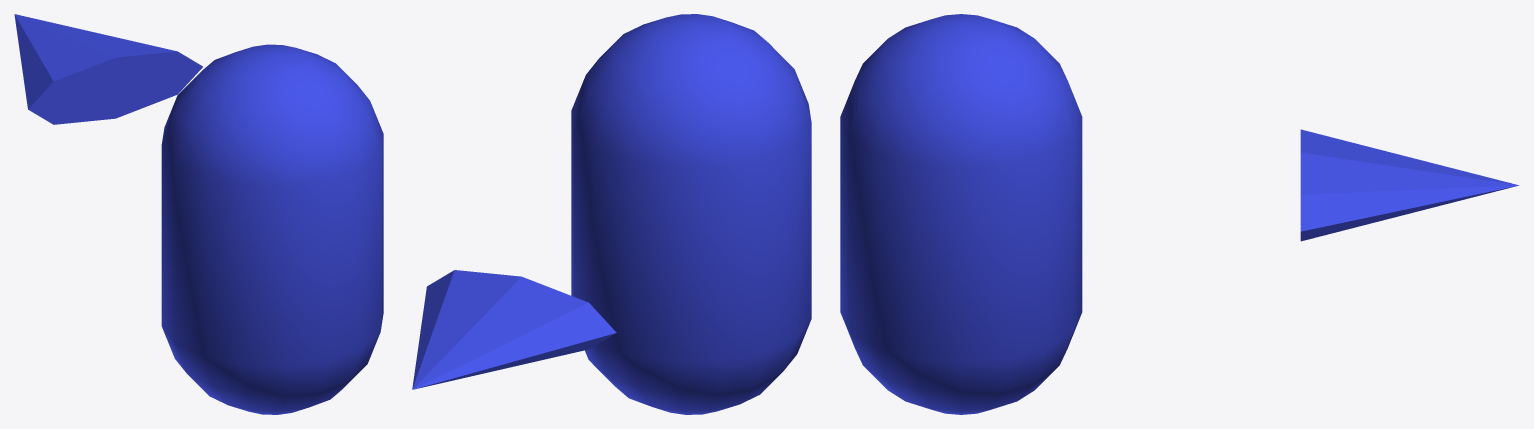
Rendered from player.glb.
3 renders of one model, left to right at view 1: azimuth 30°, elevation 25°; view 2: azimuth 150°, elevation 25°; view 3: azimuth 270°, elevation 25°, orthographic. The views are drawn at different scales.
Parts seen in each view (by area): view 1: Sphere, Cone; view 2: Sphere, Cone; view 3: Sphere, Cone.
Part boxes in pixels (x1,y1,x2,y2): Sphere: [161, 44, 383, 414]; Cone: [14, 14, 202, 124]; Sphere: [571, 14, 811, 414]; Cone: [412, 270, 616, 389]; Sphere: [840, 14, 1082, 414]; Cone: [1300, 129, 1519, 241].
Bounding box in the file's own units: 0.4004 × 0.6909 × 1.12.
